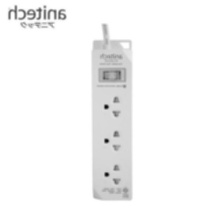three_eye_plug: (90, 35, 134, 205)
